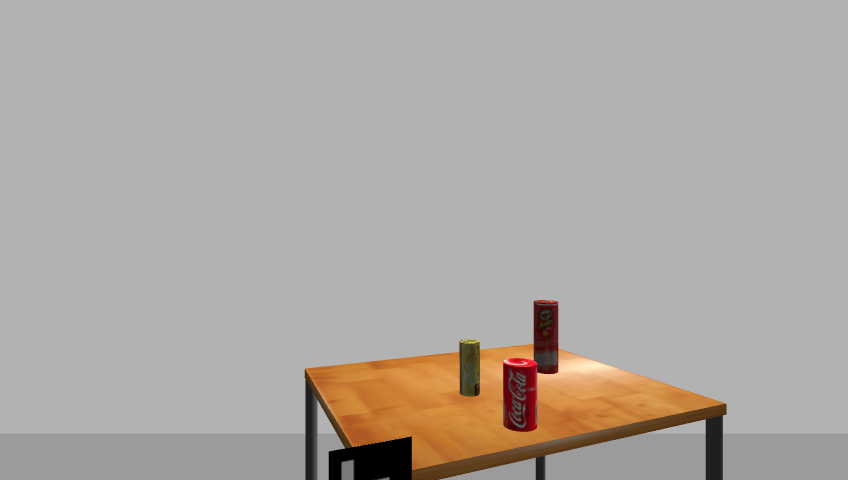aruco marker: (323, 436, 417, 480)
biscuits pack: (457, 338, 482, 398)
coke can: (502, 358, 538, 432)
dinner table: (294, 347, 735, 480)
pringles can: (531, 300, 561, 377)
